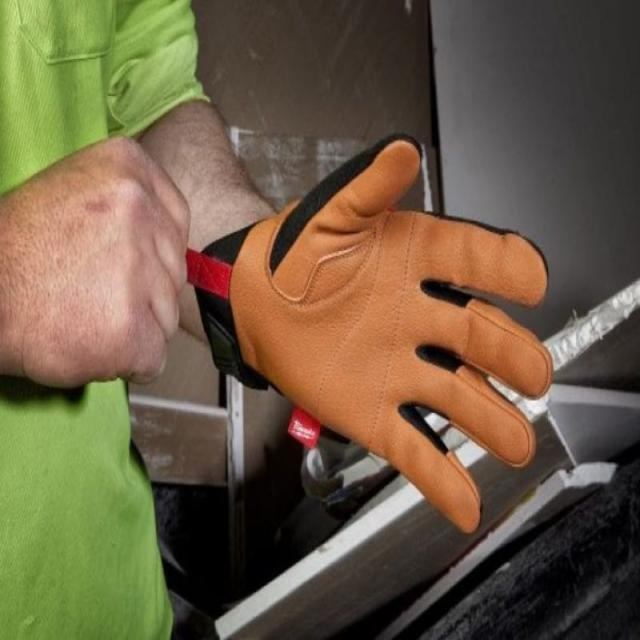gloves: (185, 132, 552, 538)
